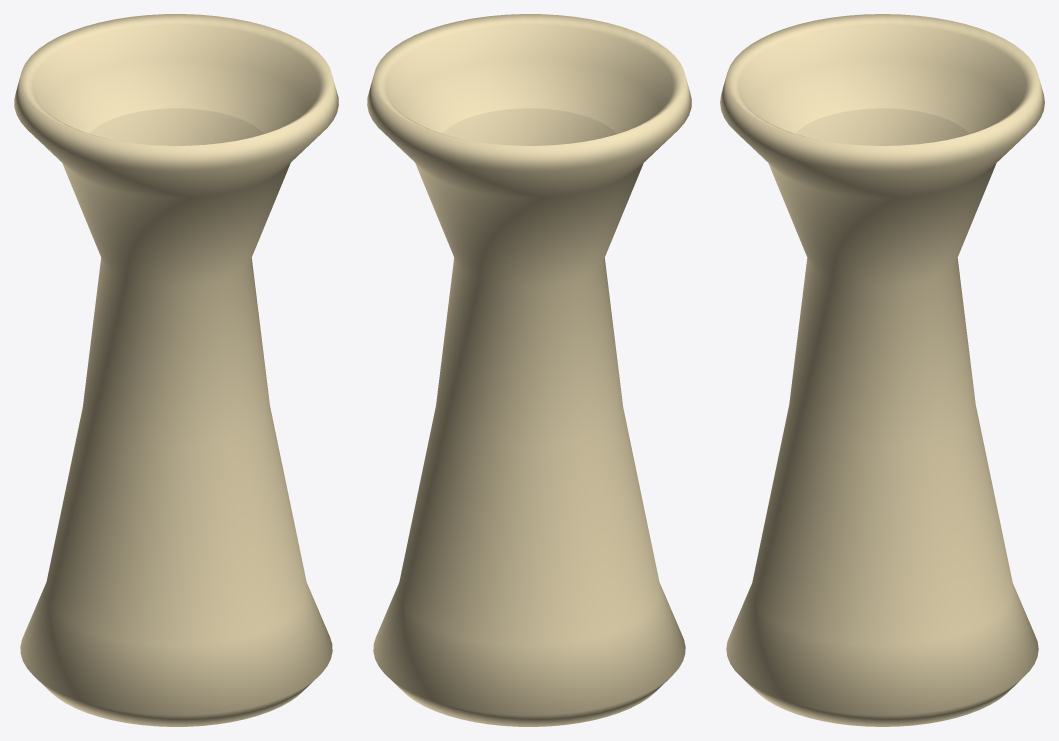
The model's file is fluted-vase.glb.
3 renders of one model, left to right at view 1: azimuth 30°, elevation 25°; view 2: azimuth 150°, elevation 25°; view 3: azimuth 270°, elevation 25°, orthographic.
Visible parts, largest first — view 1: vase-0; view 2: vase-0; view 3: vase-0.
Part boxes in pixels (x1,y1,x2,y2): vase-0: (14,14,338,726); vase-0: (367,14,691,726); vase-0: (720,14,1044,726).
Bounding box in the file's own units: 0.52 × 1.04 × 0.52.
